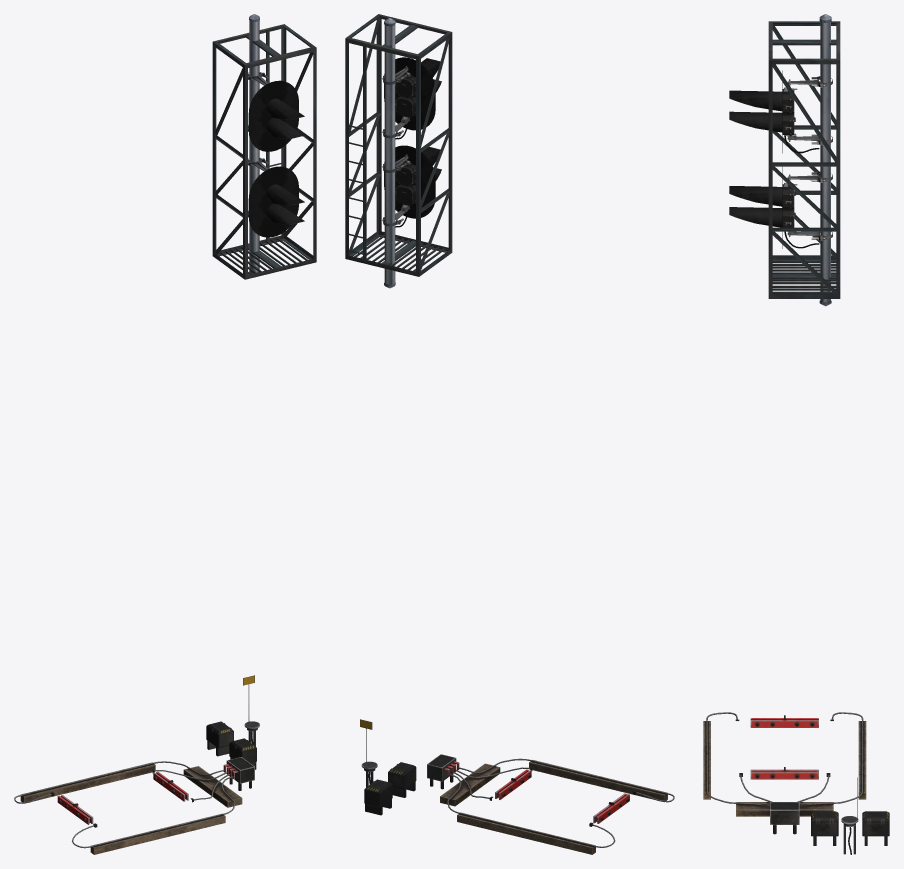
File: RM_sig_P_RM2_2+2_exit.gltf
3 views of the same model, side by side, from view 1: azimuth 30°, elevation 25°; view 2: azimuth 150°, elevation 25°; view 3: azimuth 270°, elevation 25° (orthographic). The views are drawn at different scales.
Visible parts, largest first — view 1: Object_1, Изостык, Object001, Object002; view 2: Object_1, Изостык, Object002, Object001; view 3: Object_1, Изостык, Object002, Object001.
Boxes of the visible parts, x1=… form: Object_1: x1=212, y1=14, x2=316, y2=279; Изостык: x1=14, y1=675, x2=259, y2=854; Object001: x1=248, y1=158, x2=304, y2=237; Object002: x1=248, y1=72, x2=304, y2=151; Object_1: x1=345, y1=14, x2=452, y2=288; Изостык: x1=360, y1=719, x2=674, y2=854; Object002: x1=382, y1=57, x2=441, y2=139; Object001: x1=382, y1=145, x2=441, y2=227; Object_1: x1=768, y1=14, x2=840, y2=306; Изостык: x1=703, y1=712, x2=889, y2=854; Object002: x1=729, y1=70, x2=832, y2=153; Object001: x1=729, y1=167, x2=832, y2=248.
Size of the model in its own units: 4.42 by 12.01 by 2.43.
Materials: 4 (3 with a texture image).
